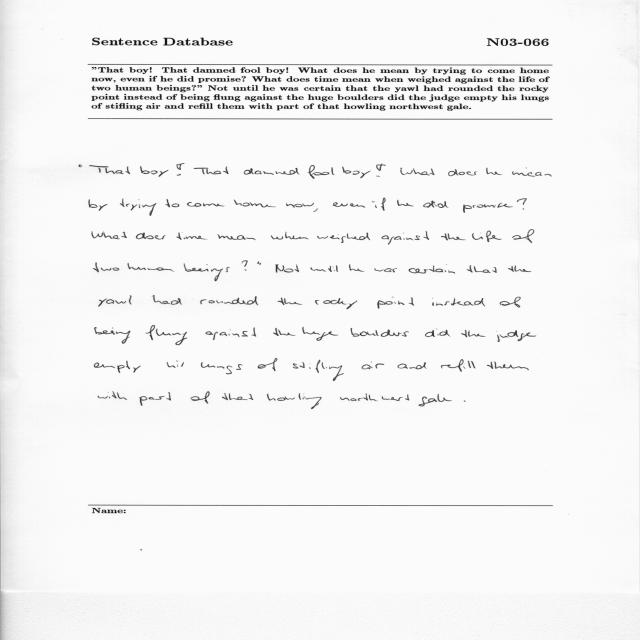word: (293, 360, 344, 381), (267, 393, 322, 409), (146, 326, 188, 346), (184, 264, 230, 282), (206, 327, 257, 340), (120, 198, 156, 216), (382, 231, 430, 244), (94, 360, 141, 373), (95, 327, 130, 344), (340, 393, 409, 401), (317, 233, 371, 243), (200, 296, 259, 305), (350, 328, 409, 337), (303, 327, 339, 341), (201, 362, 243, 374), (463, 203, 513, 213), (497, 330, 536, 342), (315, 298, 357, 309), (441, 359, 476, 372), (139, 392, 171, 406), (433, 298, 486, 306), (128, 263, 174, 272), (409, 265, 455, 274), (377, 298, 414, 309), (419, 394, 452, 406), (244, 168, 300, 175), (308, 165, 335, 179), (487, 361, 529, 370), (89, 165, 130, 174), (99, 296, 132, 307), (512, 168, 551, 177), (234, 200, 276, 208), (140, 166, 169, 177), (342, 167, 371, 178), (472, 231, 501, 242), (152, 295, 182, 305), (271, 232, 308, 240), (286, 203, 318, 212), (512, 230, 534, 243), (194, 167, 229, 175), (92, 232, 127, 240), (401, 168, 435, 176), (98, 391, 127, 400), (94, 263, 120, 273), (258, 358, 278, 371), (177, 232, 208, 240), (191, 391, 210, 404), (467, 265, 497, 273), (500, 297, 521, 308), (89, 199, 108, 211), (218, 234, 256, 240), (222, 393, 253, 400), (275, 264, 299, 273), (136, 233, 166, 240), (449, 169, 478, 176), (398, 362, 427, 369), (425, 329, 450, 337), (278, 297, 302, 305), (187, 202, 225, 207), (311, 265, 338, 272), (372, 198, 386, 211), (423, 201, 449, 208), (273, 328, 295, 336), (362, 362, 384, 370), (441, 234, 466, 241), (461, 330, 486, 337), (508, 265, 531, 272), (167, 360, 184, 368), (376, 164, 386, 177), (517, 198, 527, 210), (349, 264, 364, 272), (176, 163, 185, 176), (486, 168, 502, 175), (166, 199, 180, 207), (397, 200, 414, 206), (374, 268, 397, 272), (333, 202, 348, 207), (350, 203, 365, 208), (242, 261, 248, 271), (257, 261, 261, 265), (79, 165, 82, 168), (464, 400, 466, 402)
